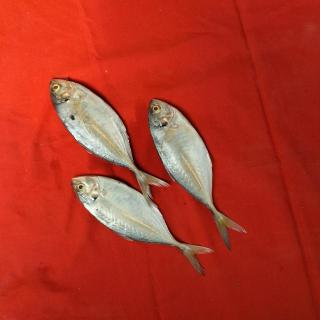Ikan: (39, 71, 257, 282)
